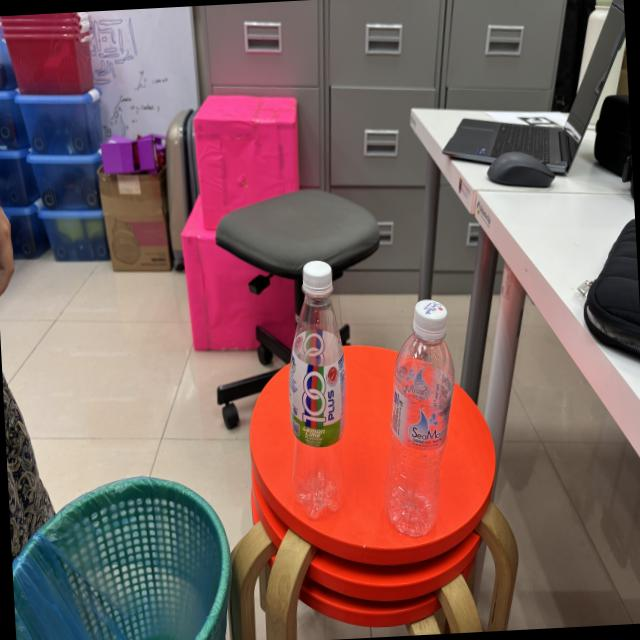dustbin: (7, 461, 250, 640)
plastic_bottle: (369, 287, 472, 549), (270, 250, 362, 529)
